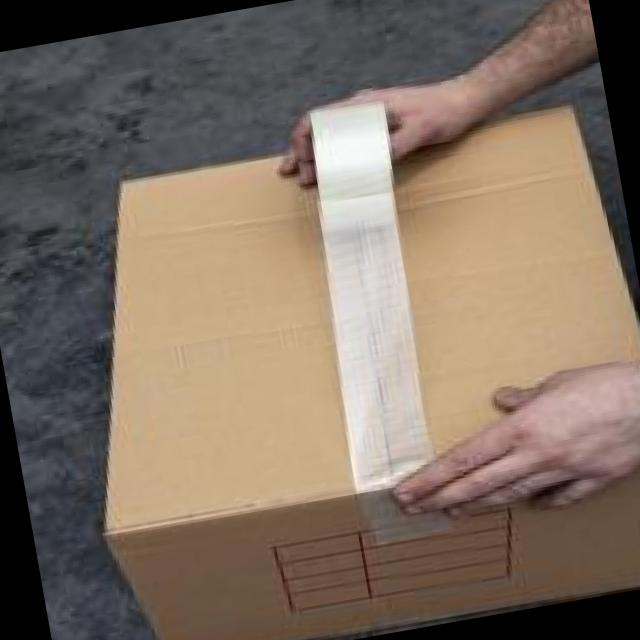box: (102, 104, 640, 640)
